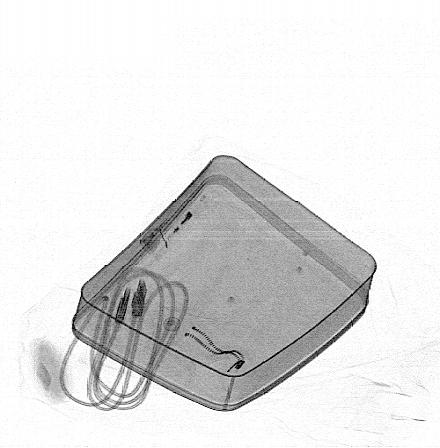Lighter: (145, 201, 198, 260)
